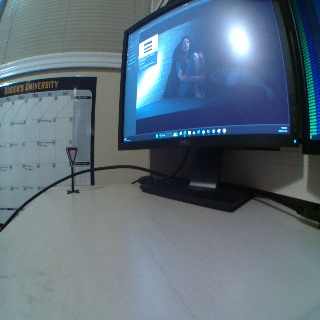sign_yield: (64, 146, 80, 164)
